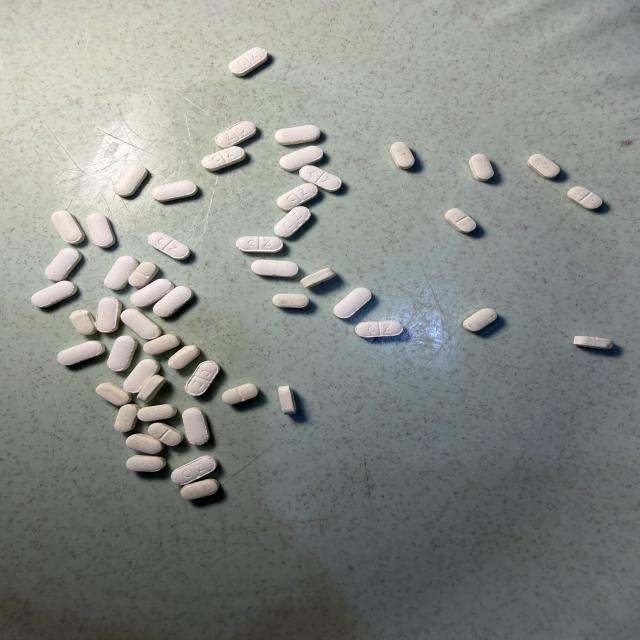pill: (172, 455, 217, 484), (123, 359, 160, 393), (153, 286, 193, 317), (130, 279, 174, 307), (121, 309, 161, 339), (31, 281, 77, 307), (185, 361, 219, 396), (45, 248, 81, 281), (104, 256, 138, 290), (215, 121, 256, 149), (299, 165, 341, 192), (148, 232, 190, 259), (58, 341, 105, 365), (334, 288, 371, 318), (229, 47, 267, 76), (114, 164, 148, 196), (274, 207, 310, 237), (280, 146, 323, 171), (52, 211, 84, 244), (107, 336, 137, 371), (277, 184, 317, 210), (202, 147, 245, 171), (183, 408, 209, 445), (86, 214, 115, 247), (152, 181, 197, 202), (275, 125, 320, 145), (96, 297, 121, 332), (96, 382, 131, 406), (355, 321, 403, 338), (222, 383, 259, 405), (148, 423, 183, 446), (251, 260, 298, 277), (137, 375, 166, 402), (463, 308, 497, 331), (528, 154, 560, 178), (181, 479, 219, 499), (126, 434, 164, 454), (144, 334, 180, 355), (129, 262, 158, 288), (236, 236, 283, 252), (568, 187, 602, 209), (168, 345, 199, 369), (445, 209, 476, 233), (114, 404, 140, 432), (138, 404, 177, 422), (301, 268, 336, 288), (126, 455, 166, 472), (70, 310, 96, 335), (469, 154, 493, 181), (390, 142, 414, 169), (272, 294, 309, 308), (574, 336, 613, 349), (278, 386, 296, 414)
